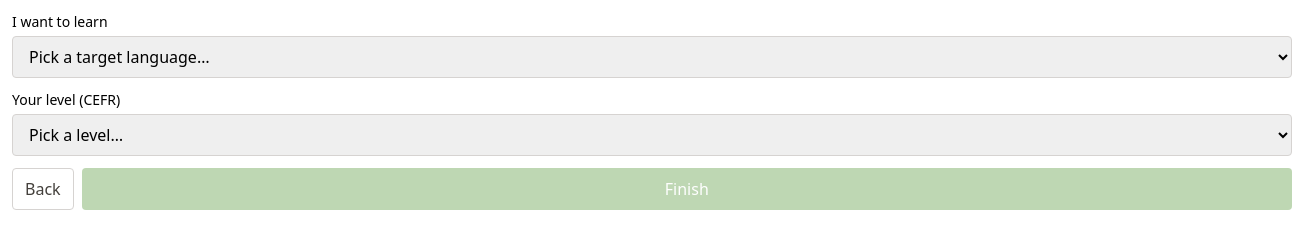
Test: Step3TargetLanguage › keeps the submit button disabled until both fields are picked
Check: the button "Finish" is disabled, box [82,168,1292,210]
Select "Spanish (es)" in the dropdown labelled "I want to learn" at (652,57), box [12,36,1292,78]
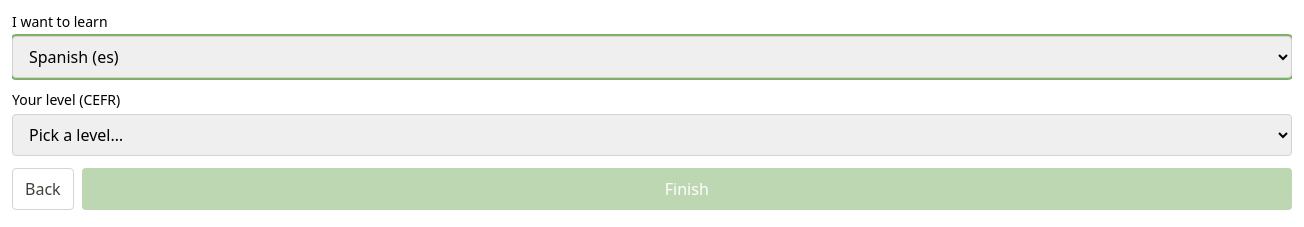
Check: the button "Finish" is disabled, box [82,168,1292,210]
Select "A1" in the dropdown labelled "Your level (CEFR)" at (652,135), box [12,114,1292,156]
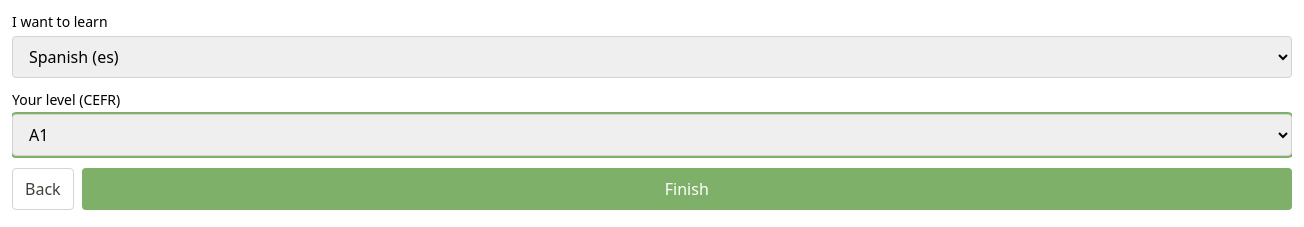
Check: the button "Finish" is enabled, box [82,168,1292,210]
